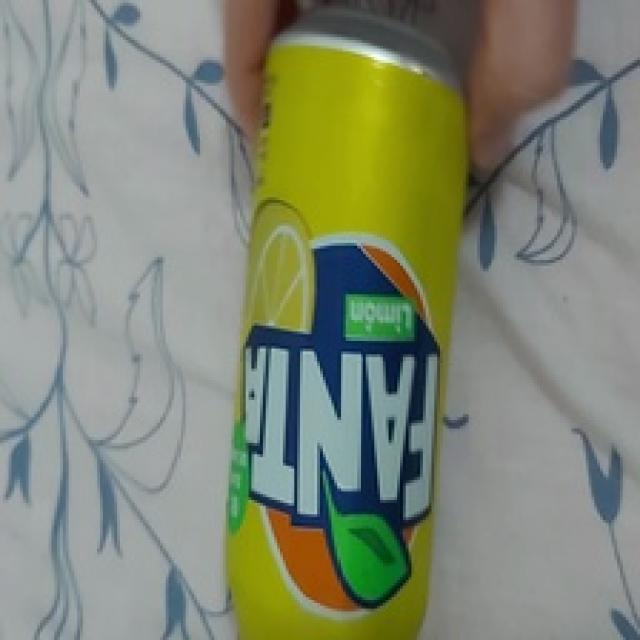can: (222, 9, 469, 640)
